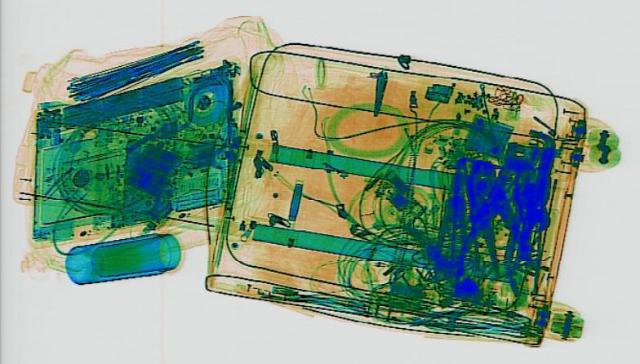Pliers: (458, 158, 532, 274)
